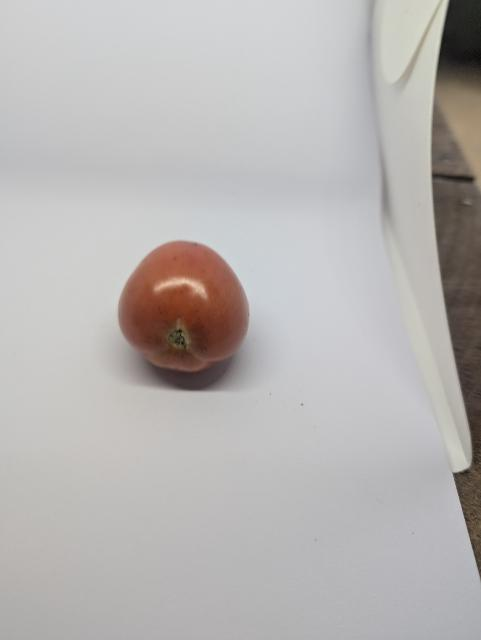red: (98, 232, 288, 396)
